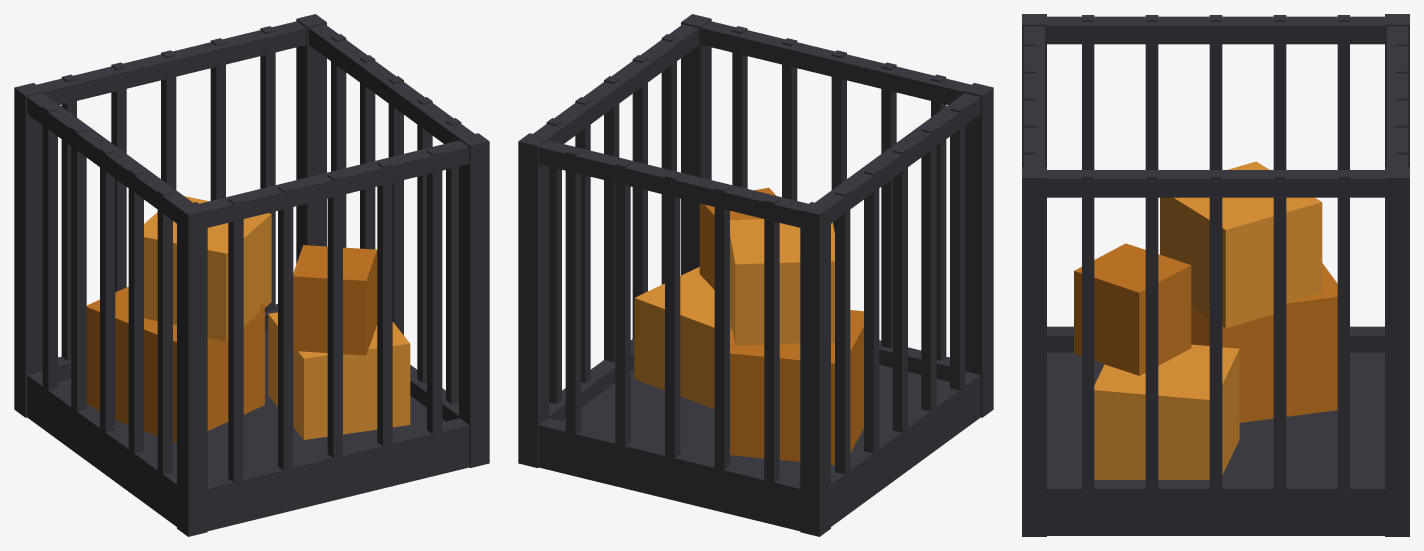
Rendered from witch_cage.glb.
3 views of the same model, side by side, from view 1: azimuth 30°, elevation 25°; view 2: azimuth 150°, elevation 25°; view 3: azimuth 270°, elevation 25° (orthographic). The views are drawn at different scales.
Parts seen in each view (by area): view 1: model; view 2: model; view 3: model.
Part boxes in pixels (x1,y1,x2,y2): model: (14,14,489,536); model: (518,14,993,536); model: (1022,14,1409,536).
Bounding box in the file's own units: 0.93 × 0.95 × 0.93.
